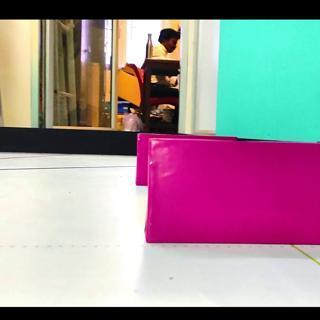xparking: (152, 142, 312, 244)
